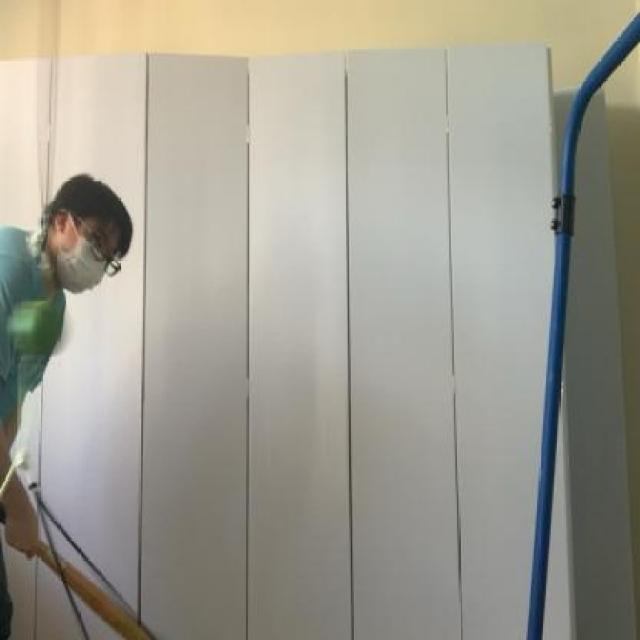baseball: (0, 286, 82, 365)
